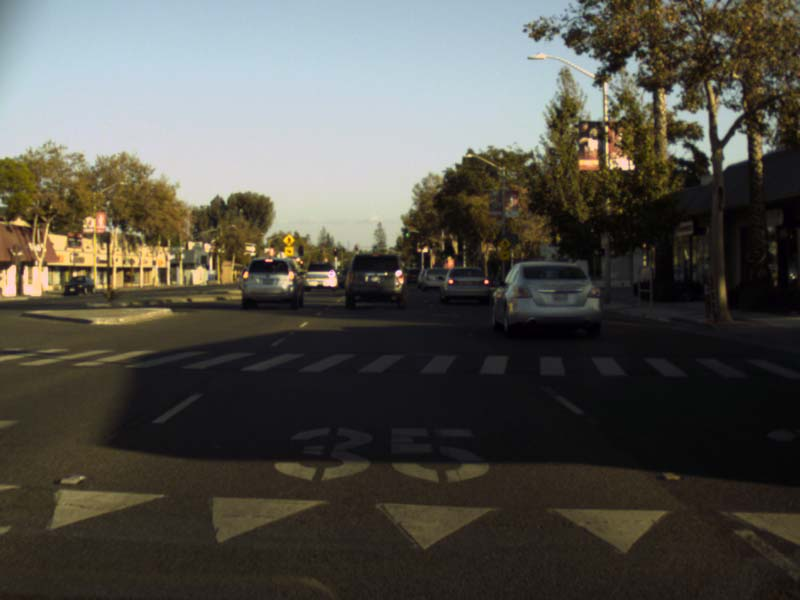Green: (404, 226, 410, 238)
Red: (333, 247, 336, 256)
